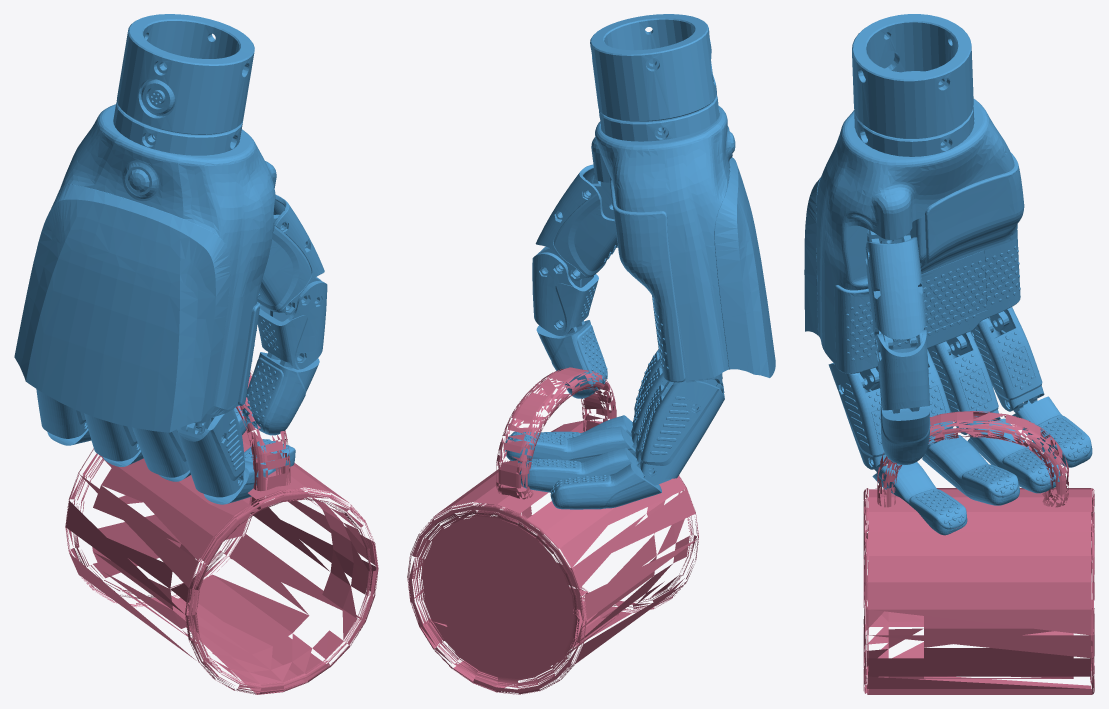
The picture shows the model from 3 angles, left to right: view 1: azimuth 30°, elevation 25°; view 2: azimuth 150°, elevation 25°; view 3: azimuth 270°, elevation 25°; orthographic projection. The views are drawn at different scales.
Visible parts, largest first — view 1: 8; view 2: 8; view 3: 8.
Boxes of the visible parts, x1=… form: 8: x1=14, y1=14, x2=378, y2=694; 8: x1=407, y1=14, x2=775, y2=694; 8: x1=804, y1=14, x2=1094, y2=694.
Bounding box in the file's own units: 0.1396 × 0.2839 × 0.121.
